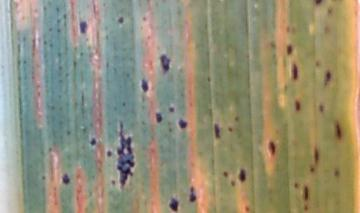tarspot: (115, 121, 136, 190), (155, 51, 175, 75), (330, 117, 344, 143), (165, 193, 182, 213), (175, 115, 191, 133), (265, 137, 278, 159), (236, 165, 250, 185), (288, 61, 300, 84), (211, 119, 222, 144), (310, 143, 322, 165), (75, 19, 90, 36), (138, 77, 152, 95), (321, 66, 333, 87), (186, 183, 198, 204), (291, 97, 305, 114), (151, 109, 165, 125), (59, 172, 73, 187), (301, 183, 312, 202), (219, 167, 232, 182), (115, 13, 127, 28), (88, 136, 101, 149), (283, 41, 294, 56), (103, 148, 115, 161), (316, 101, 327, 115), (38, 172, 50, 184), (241, 201, 253, 213), (331, 167, 342, 179), (230, 113, 243, 123), (308, 1, 326, 8), (205, 74, 214, 87), (300, 203, 312, 212), (226, 123, 234, 136), (291, 179, 299, 192), (307, 165, 316, 174), (166, 105, 176, 113), (120, 99, 128, 109)
